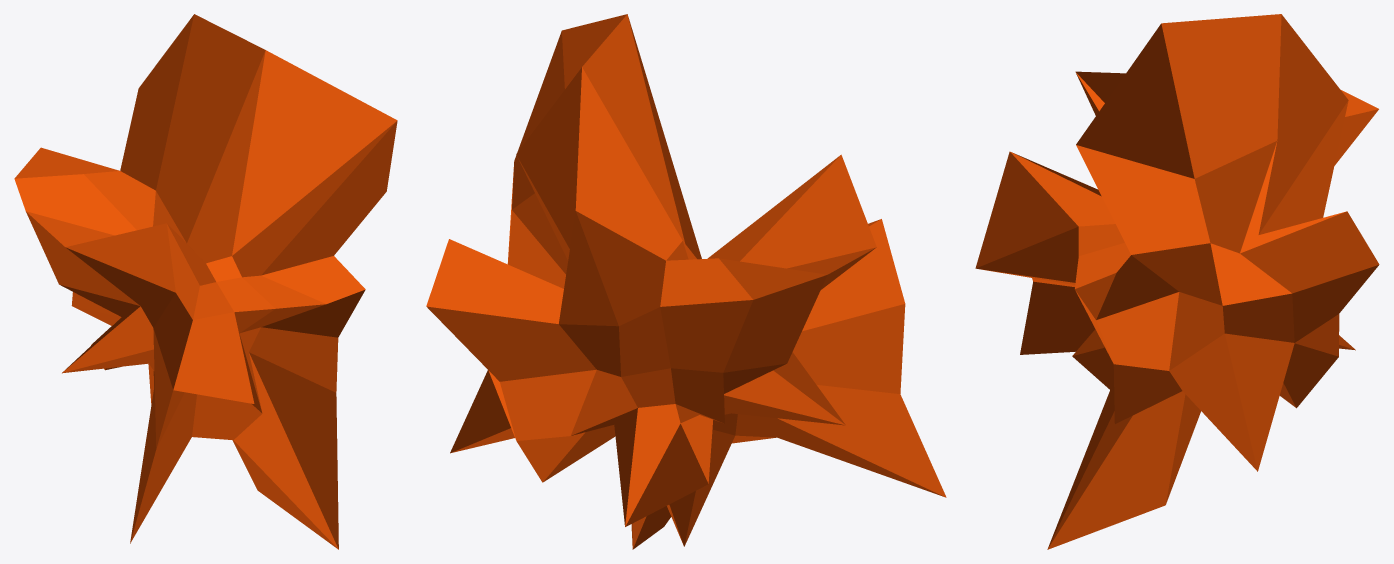
3 views of the same model, side by side, from view 1: azimuth 30°, elevation 25°; view 2: azimuth 150°, elevation 25°; view 3: azimuth 270°, elevation 25° (orthographic). The views are drawn at different scales.
Parts seen in each view (by area): view 1: test; view 2: test; view 3: test.
Part boxes in pixels (x1,y1,x2,y2): test: (14,14,397,549); test: (426,14,946,549); test: (975,14,1379,549).
Size of the model in its own units: 1.72 by 2.48 by 1.76.
